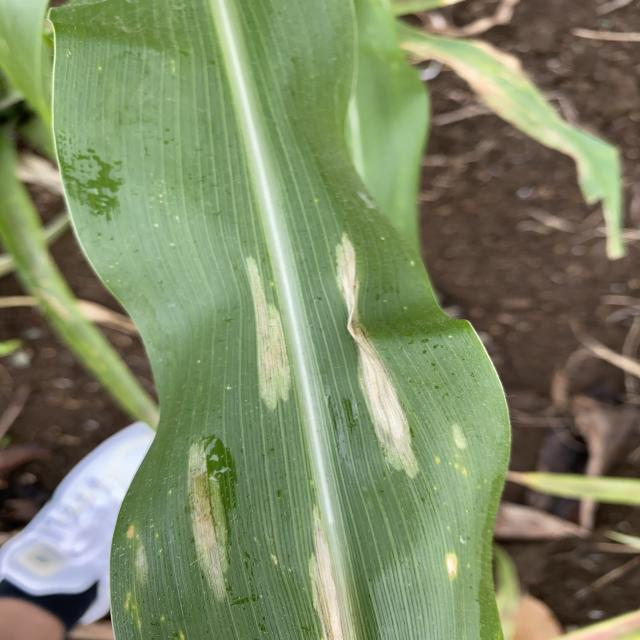Corn_Leaf_Blight: (108, 222, 516, 640)
